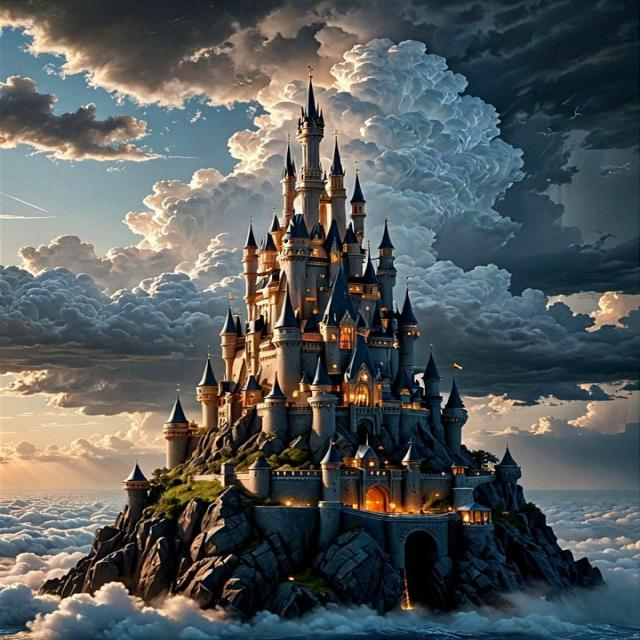castle: (103, 52, 521, 516)
